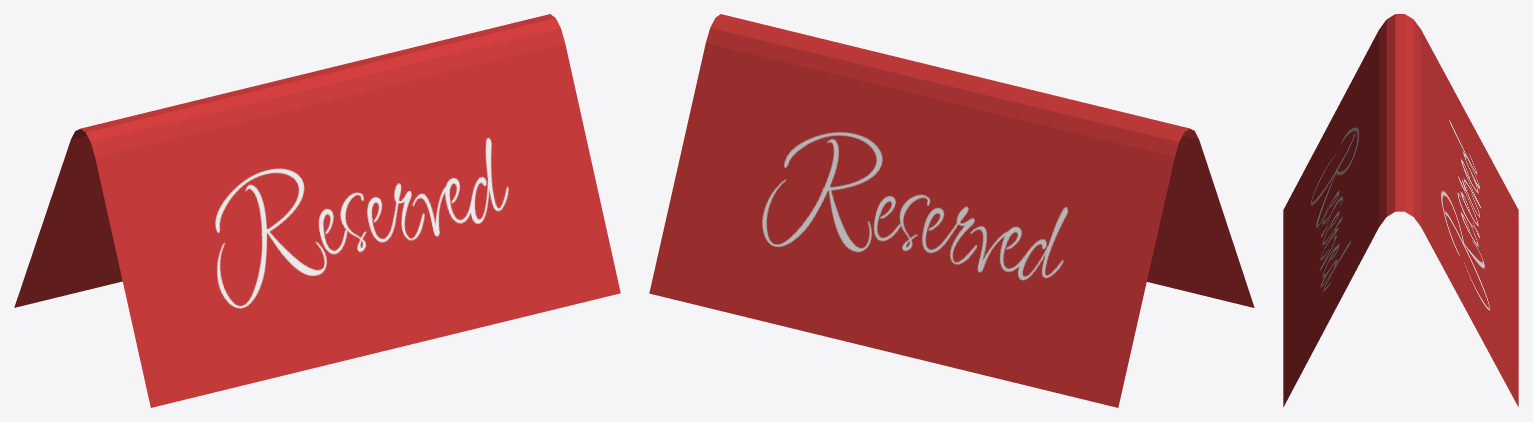
Rendered from reserved.glb.
3 views of the same model, side by side, from view 1: azimuth 30°, elevation 25°; view 2: azimuth 150°, elevation 25°; view 3: azimuth 270°, elevation 25° (orthographic). The views are drawn at different scales.
Parts seen in each view (by area): view 1: Plane; view 2: Plane; view 3: Plane.
Boxes of the visible parts, box(x1,y1,x2,y2) form: Plane: box(14, 14, 620, 407); Plane: box(649, 14, 1254, 407); Plane: box(1283, 14, 1518, 406).
Bounding box in the file's own units: 0.267 × 0.1236 × 0.1345.
1 material, 1 textured.
